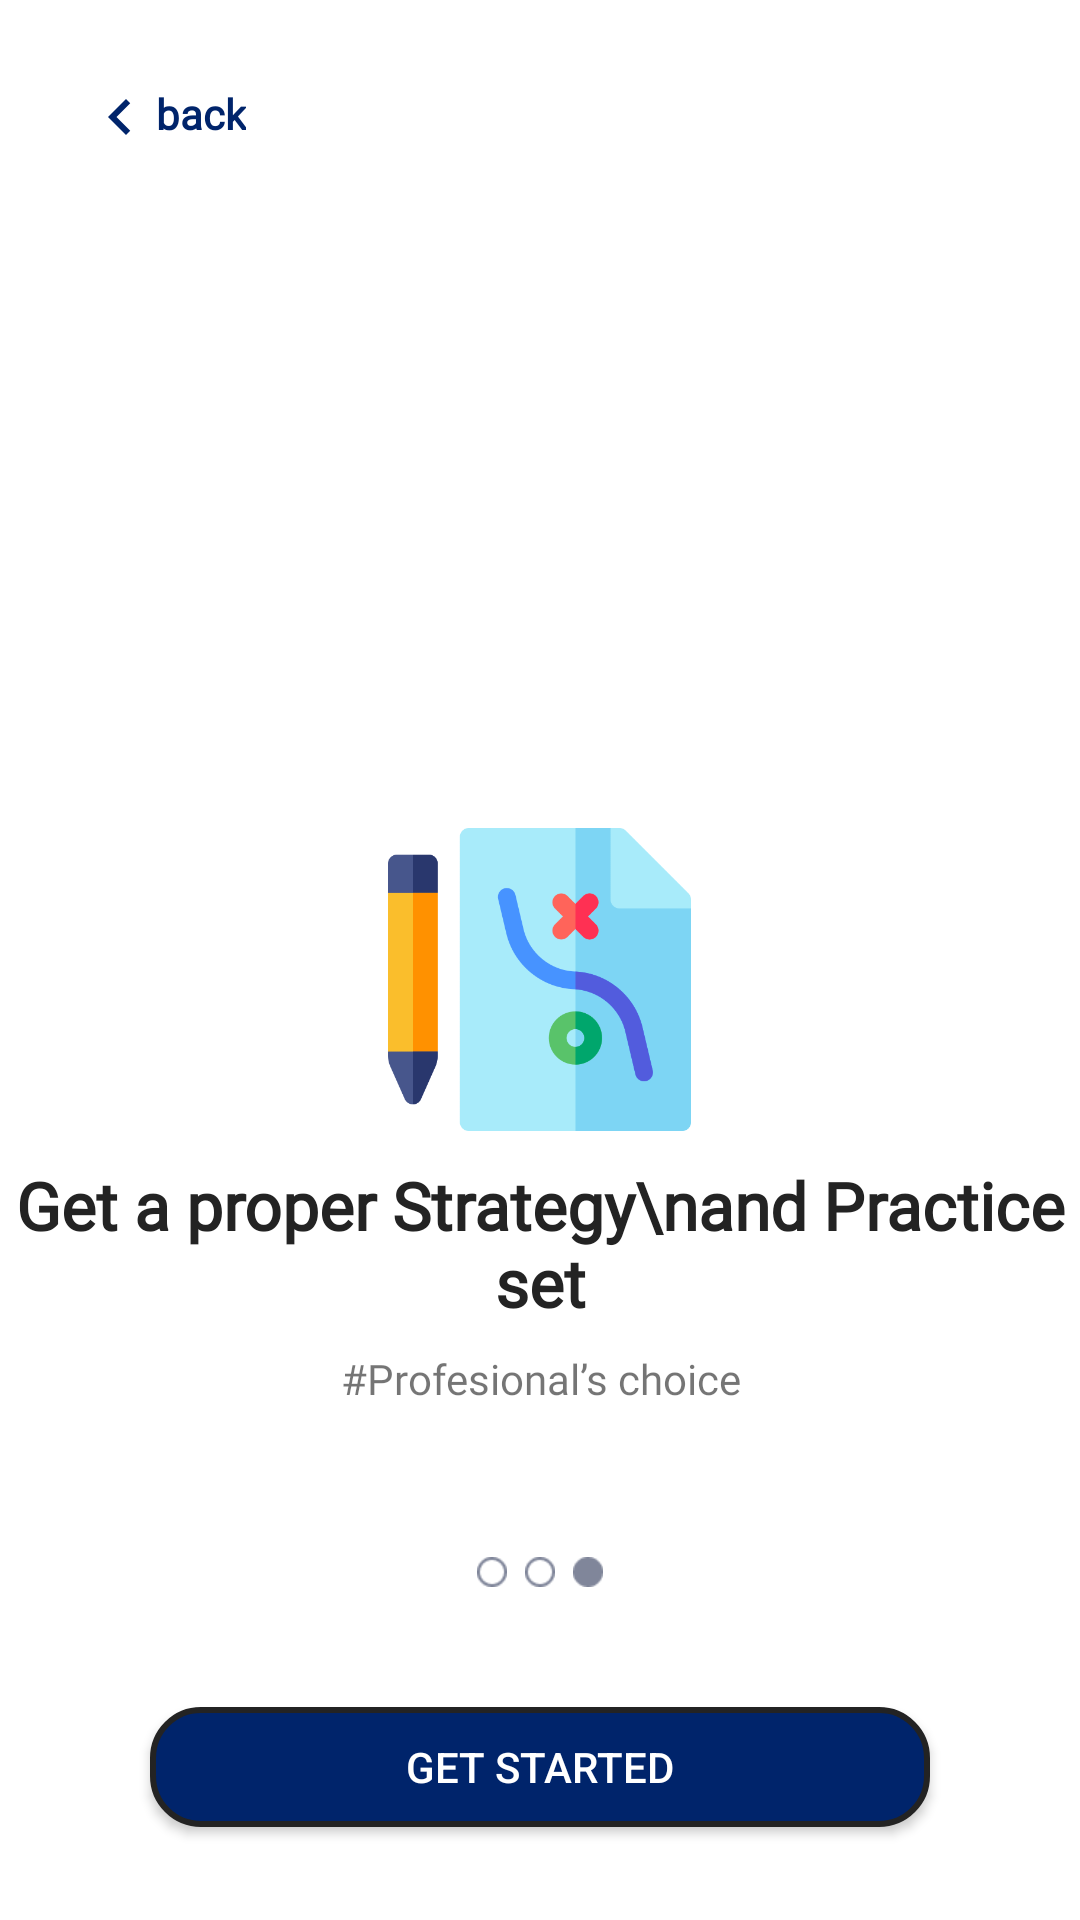

Screen size 1080w x 1920h. Icon name, then its center in pixels as (x,y):
before: (119,117)
